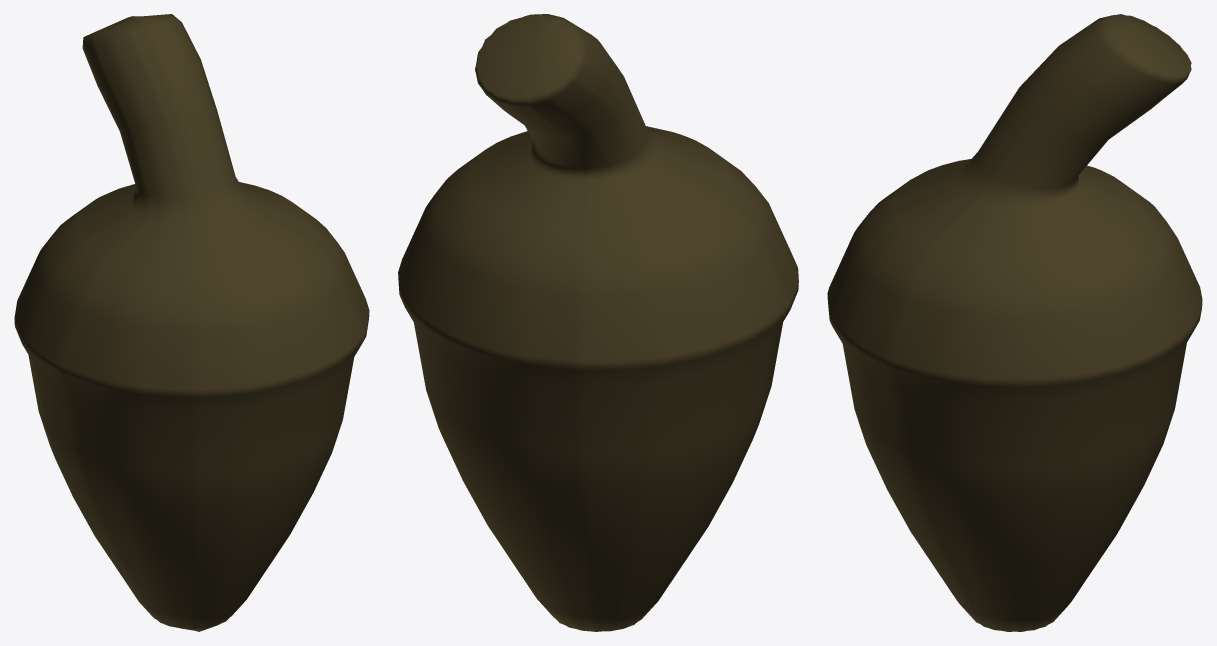
File: bellotaItem.fbx
3 renders of one model, left to right at view 1: azimuth 30°, elevation 25°; view 2: azimuth 150°, elevation 25°; view 3: azimuth 270°, elevation 25°, orthographic. The views are drawn at different scales.
Parts seen in each view (by area): view 1: pCylinder1; view 2: pCylinder1; view 3: pCylinder1.
Boxes of the visible parts, x1=… form: pCylinder1: x1=14, y1=14, x2=369, y2=631; pCylinder1: x1=398, y1=14, x2=798, y2=631; pCylinder1: x1=827, y1=14, x2=1202, y2=631.
Bounding box in the file's own units: 2.18 × 3.87 × 2.17.
